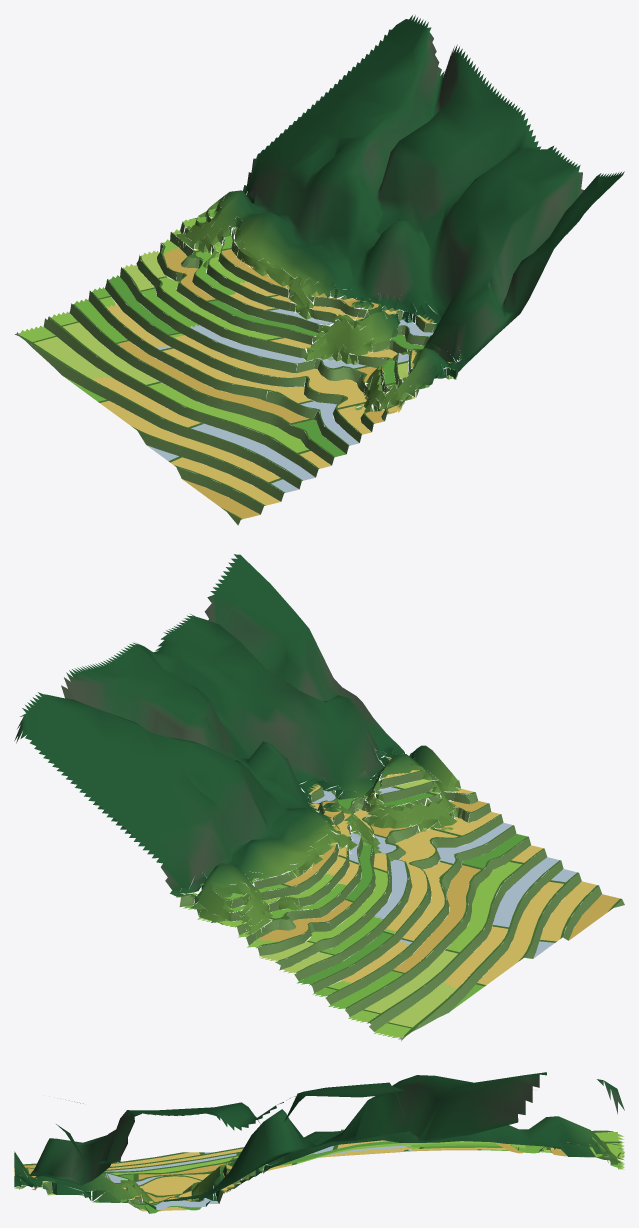
The model's file is payo_land_xm1_y2_lod2.glb.
The picture shows the model from 3 angles, top to bottom: view 1: azimuth 30°, elevation 25°; view 2: azimuth 150°, elevation 25°; view 3: azimuth 270°, elevation 25°; orthographic projection. The views are drawn at different scales.
Visible parts, largest first — view 1: payo_land_xm1_y2; view 2: payo_land_xm1_y2; view 3: payo_land_xm1_y2.
Boxes of the visible parts, left/top/right/bottom form: payo_land_xm1_y2: left=15, top=15, right=624, bottom=525; payo_land_xm1_y2: left=14, top=554, right=624, bottom=1041; payo_land_xm1_y2: left=14, top=1072, right=624, bottom=1213.
Bounding box in the file's own units: 258 × 167 × 258.
